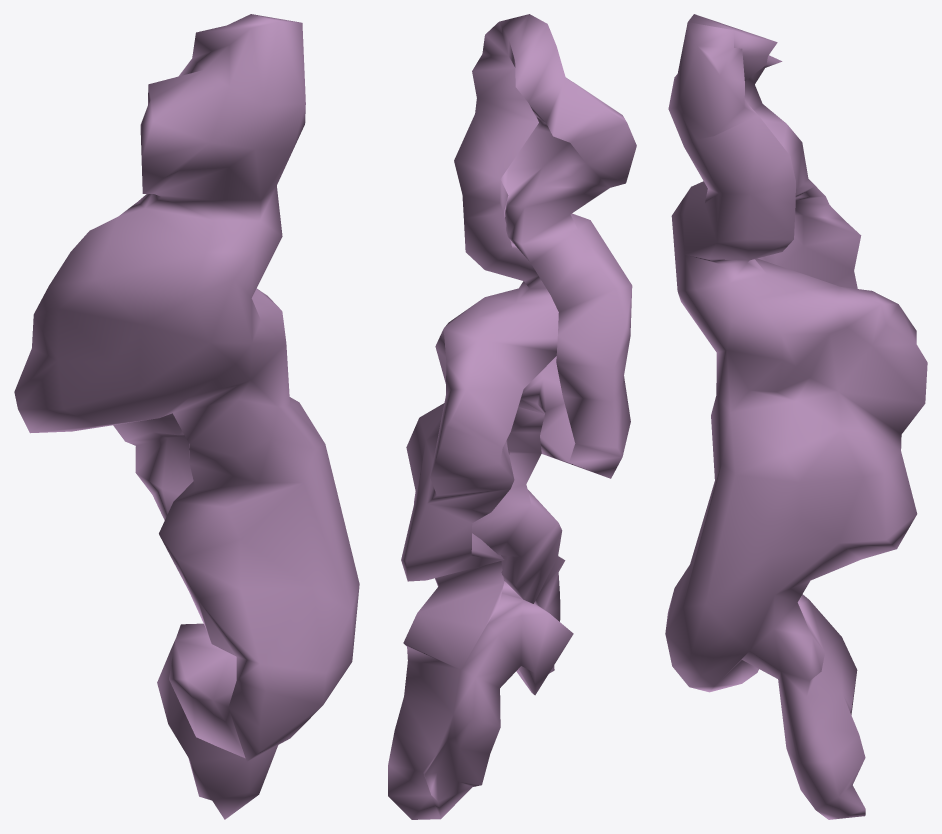
3 renders of one model, left to right at view 1: azimuth 30°, elevation 25°; view 2: azimuth 150°, elevation 25°; view 3: azimuth 270°, elevation 25°, orthographic. The views are drawn at different scales.
Visible parts, largest first — view 1: 右侧岛环状沟; view 2: 右侧岛环状沟; view 3: 右侧岛环状沟.
Part boxes in pixels (bbox=[...]): 右侧岛环状沟: bbox=[14, 14, 359, 819]; 右侧岛环状沟: bbox=[388, 14, 636, 819]; 右侧岛环状沟: bbox=[665, 14, 927, 819].
Bounding box in the file's own units: 0.0292 × 0.0875 × 0.0264.
